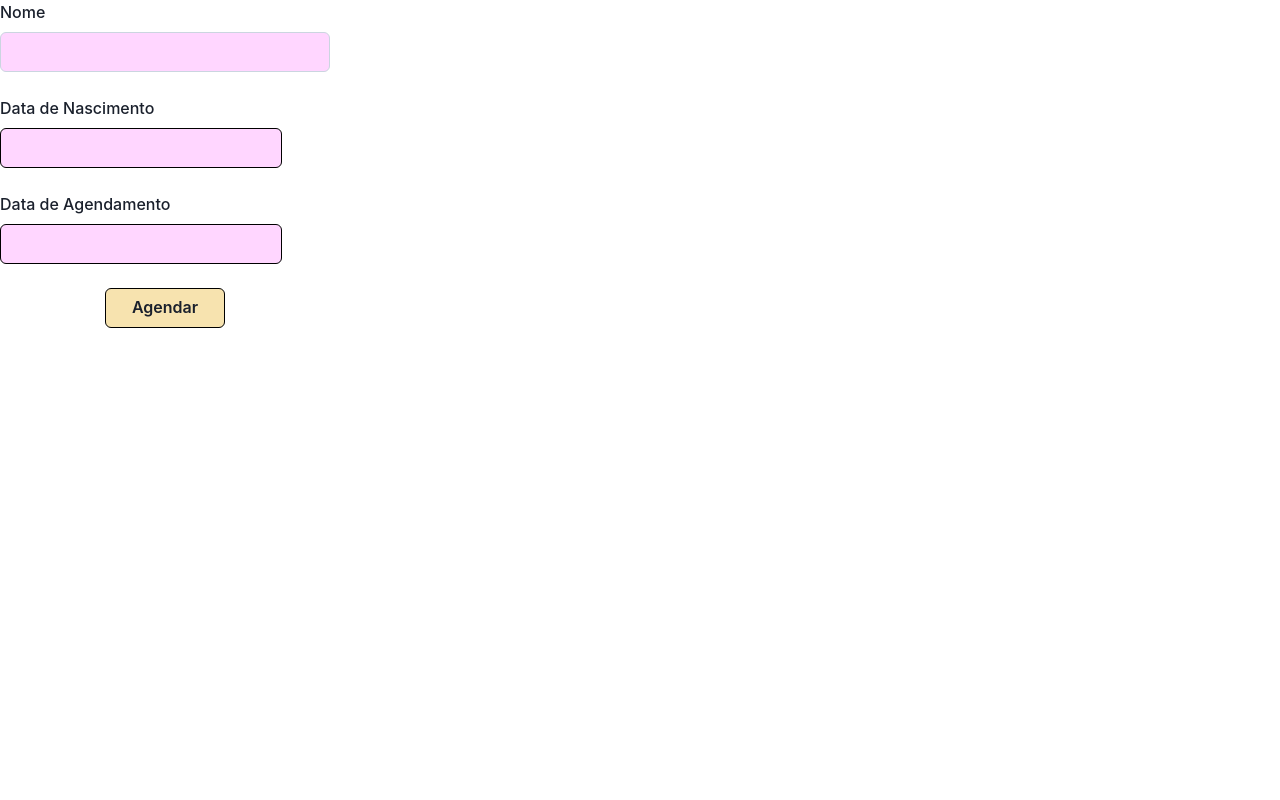
envia o formulário e abre o modal na submissão bem-sucedida
The image size is (1280, 800).
Type "Miguel Santos" into the field labelled "Nome".
click(165, 52); type("Miguel Santos")  # box [0,32,330,72]
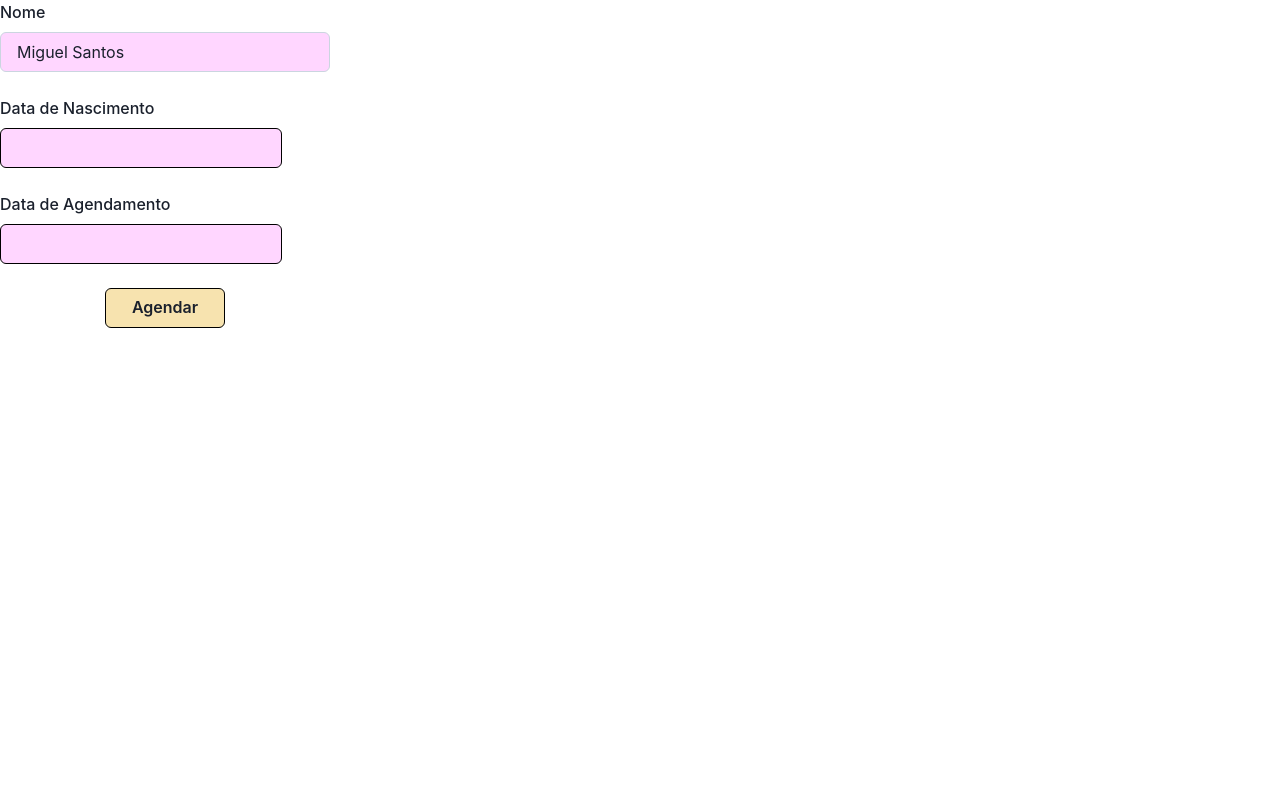
Type "2000-03-23" into the field labelled "Data de Nascimento".
click(141, 148); type("2000-03-23")  # box [0,128,282,168]
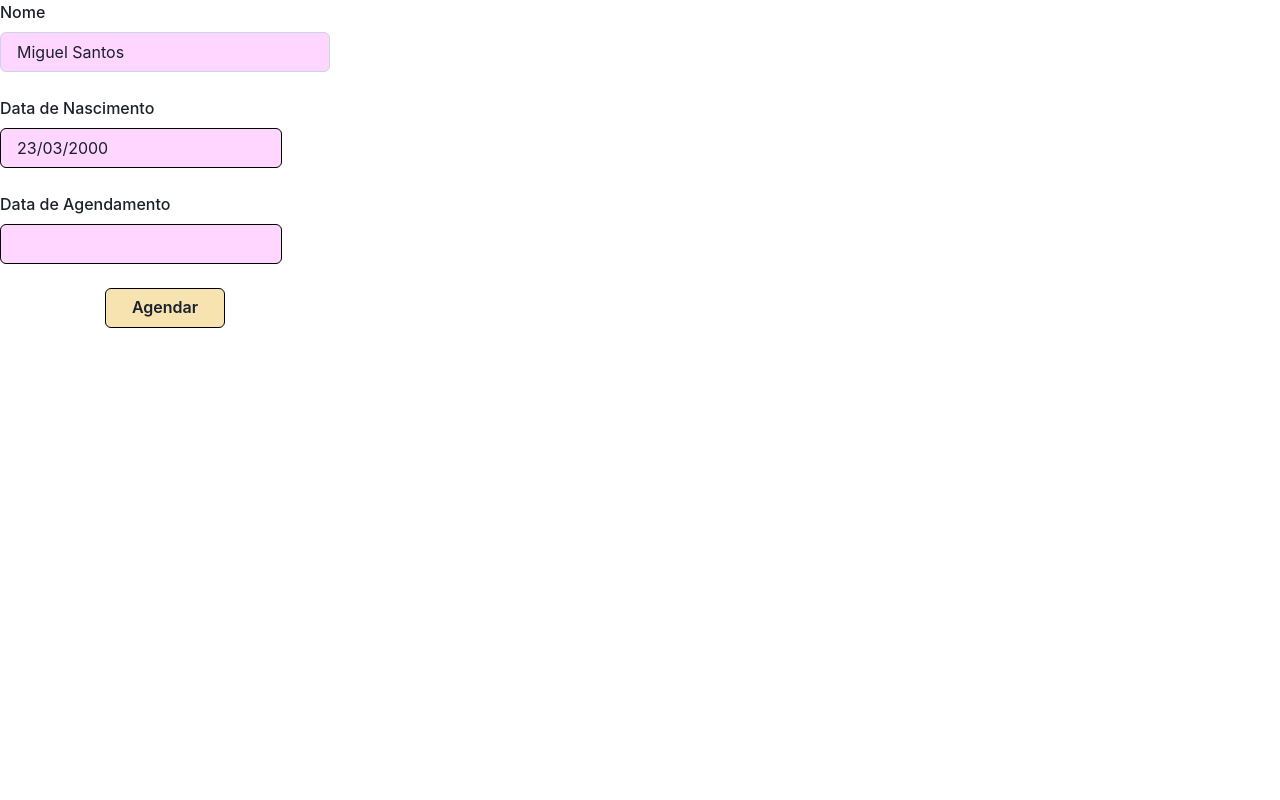
Type "2024-07-19T09:00" into the field labelled "Data de Agendamento".
click(141, 244); type("2024-07-19T09:00")  # box [0,224,282,264]
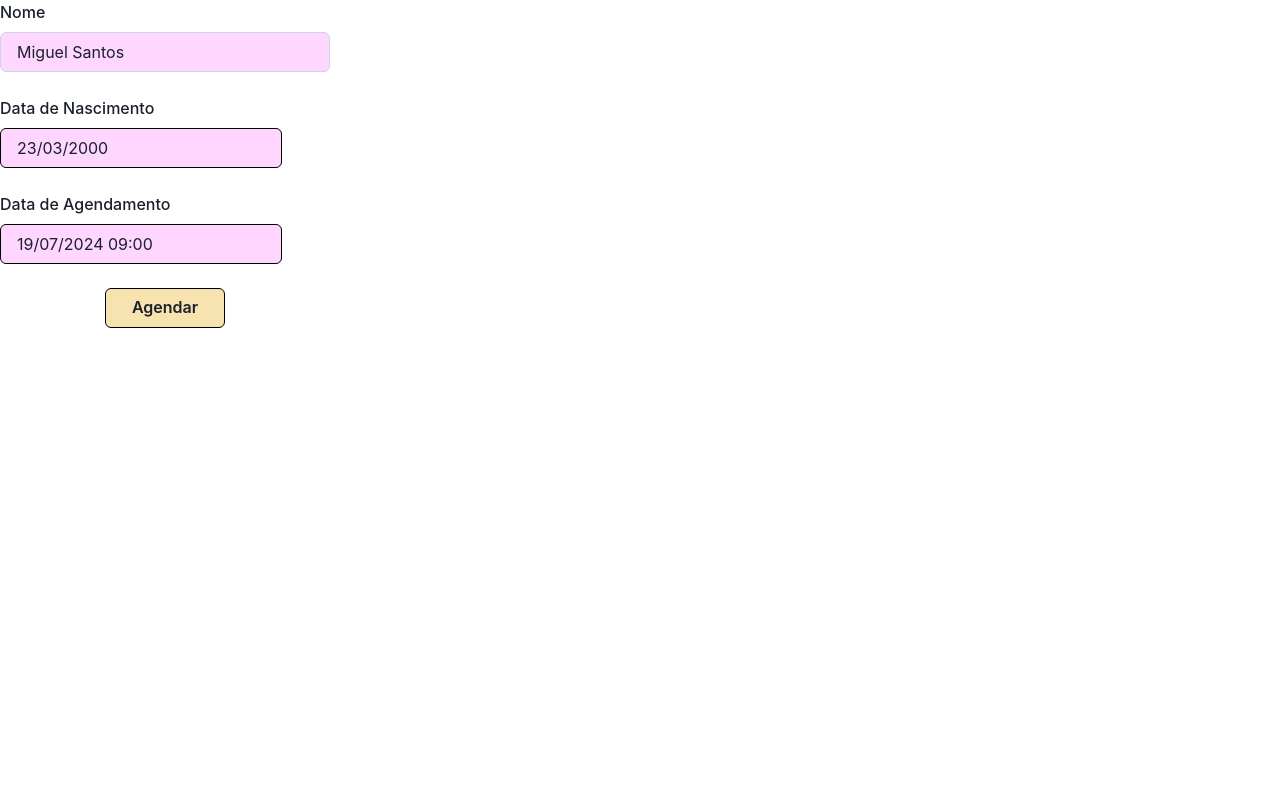
Submit the form from the button "Agendar", box [105,288,225,328]
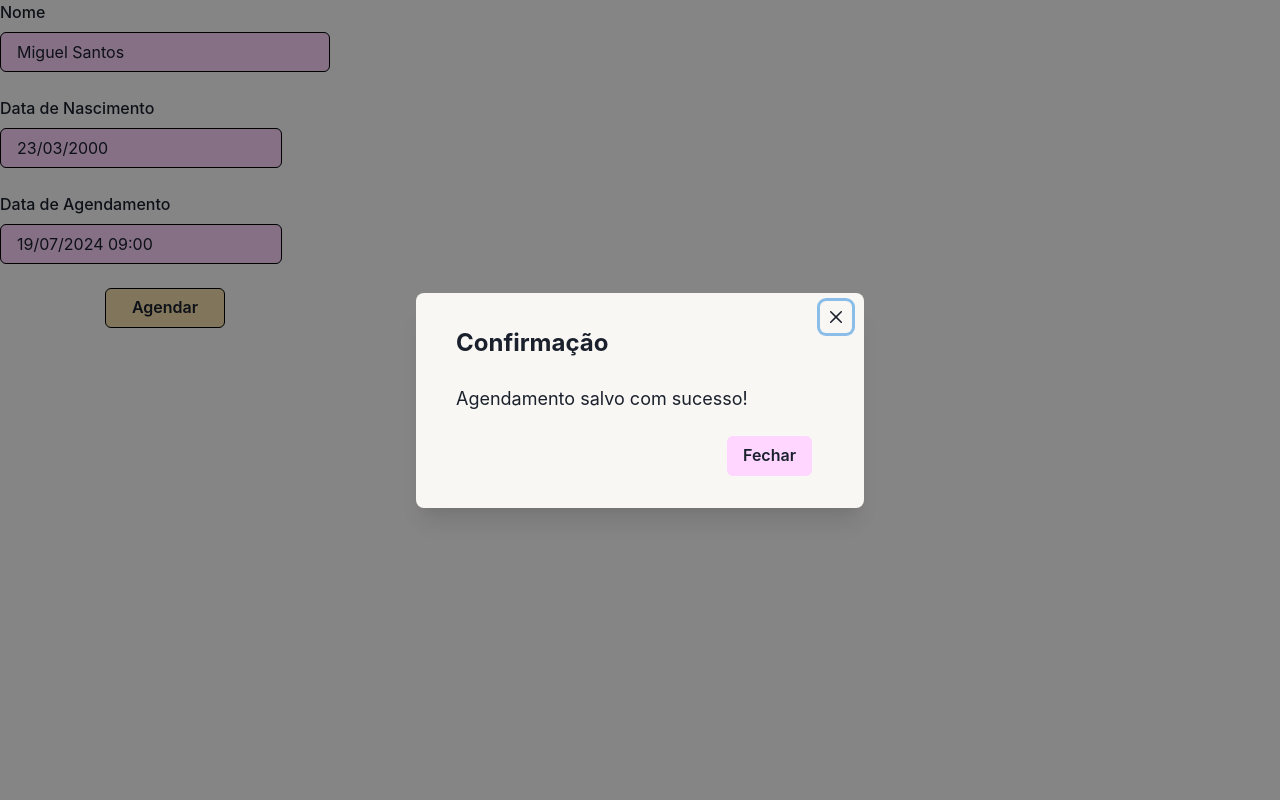
Result: the text "Agendamento salvo com sucesso!" is shown at [456,388,748,408]
